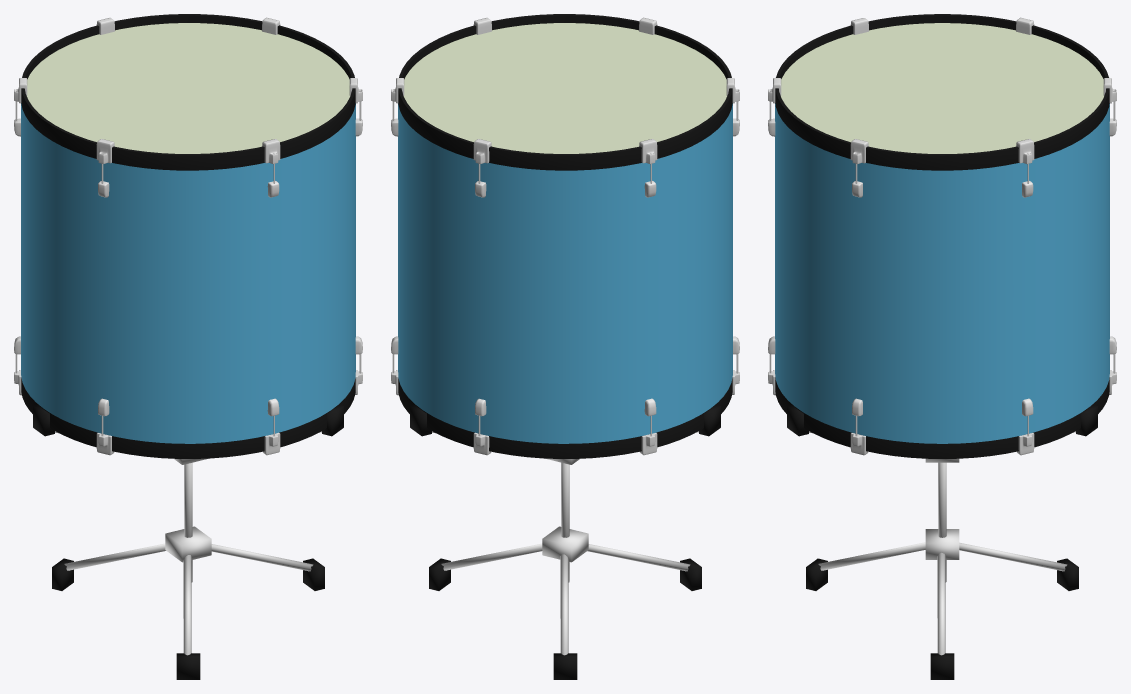
File: floortom1.fbx
3 renders of one model, left to right at view 1: azimuth 30°, elevation 25°; view 2: azimuth 150°, elevation 25°; view 3: azimuth 270°, elevation 25°, orthographic.
Parts seen in each view (by area): view 1: Floor Tom, Floor Stand.001, Cube.005, Cube.003, Cylinder.001; view 2: Floor Tom, Floor Stand.001, Cube.005, Cube.003, Cylinder.001; view 3: Floor Tom, Floor Stand.001, Cube.005, Cube.003, Cylinder.001.
Boxes of the visible parts, x1,y1,x2,y2 form: Floor Tom: (14,14,362,458); Floor Stand.001: (52,543,324,679); Cube.005: (165,526,211,562); Cube.003: (33,405,343,436); Cylinder.001: (184,462,192,582); Floor Tom: (391,14,739,458); Floor Stand.001: (429,543,701,679); Cube.005: (542,526,588,562); Cube.003: (410,405,720,436); Cylinder.001: (561,462,569,582); Floor Tom: (768,14,1116,458); Floor Stand.001: (806,542,1078,679); Cube.005: (925,529,959,559); Cube.003: (787,405,1097,436); Cylinder.001: (938,462,946,582).
Bounding box in the file's own units: 0.4062 × 0.7054 × 0.4166.
